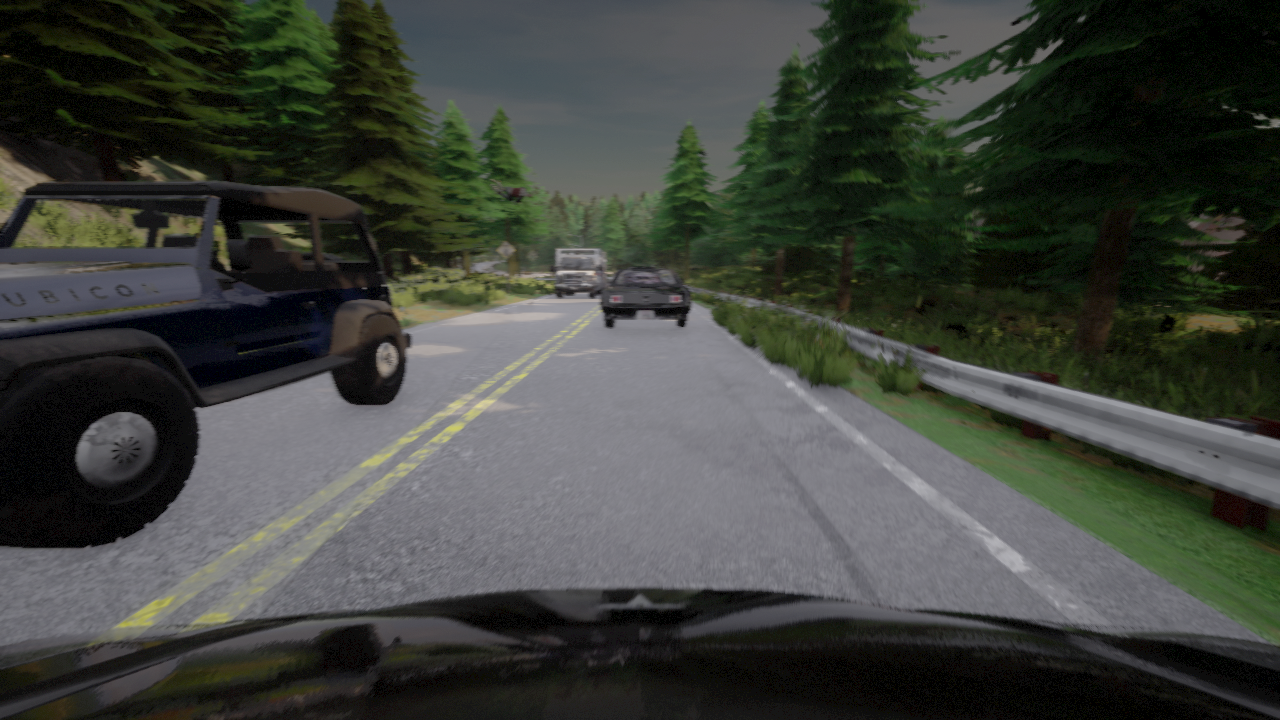cyclist: (0, 588, 1279, 719), (0, 181, 410, 548), (601, 269, 691, 327), (550, 248, 605, 297), (483, 179, 517, 208), (628, 264, 655, 269), (604, 276, 606, 288)
